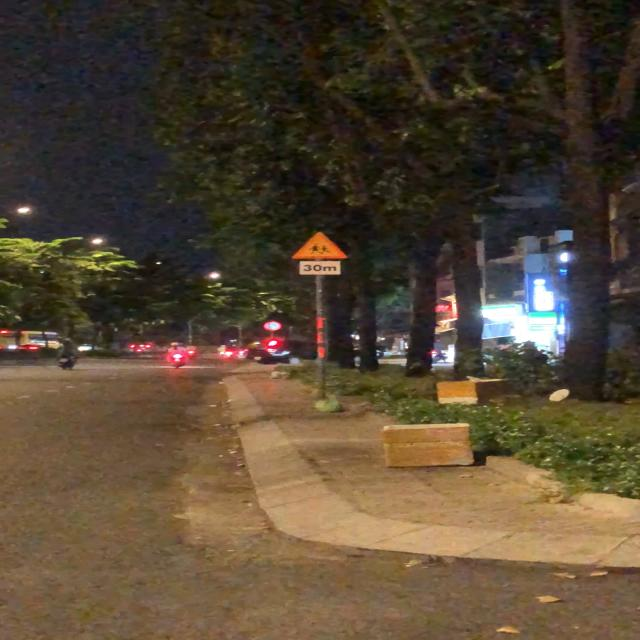Bien bao tre em: (289, 227, 349, 260)
